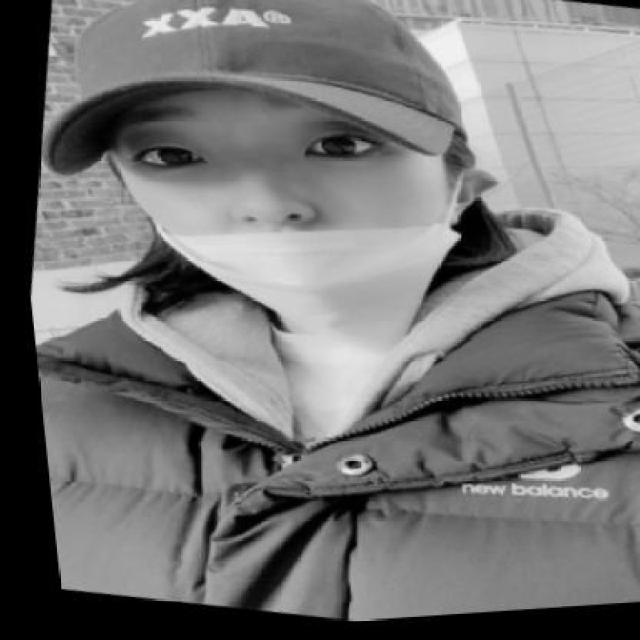hat: (20, 0, 494, 248)
